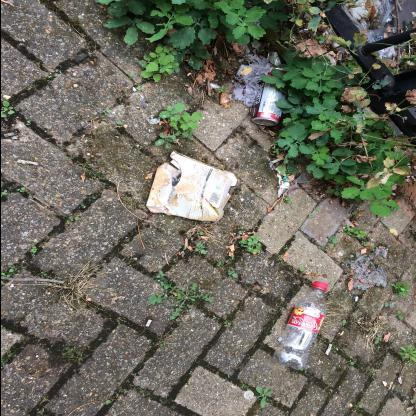karton: (145, 150, 237, 223)
metal: (250, 68, 288, 126)
plastik: (271, 281, 328, 370)
